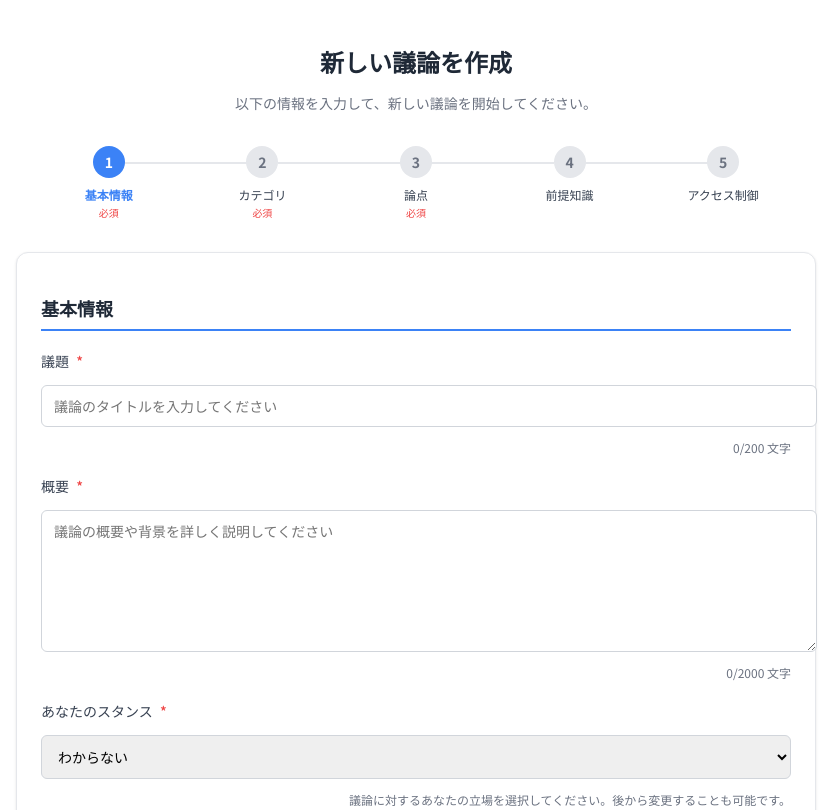
CreateDiscussionForm › moves to next step when basic info is valid
// Fill in basic info
In the field labelled "議題 *": (429, 406) [41, 385, 817, 427], type "Test Discussion"
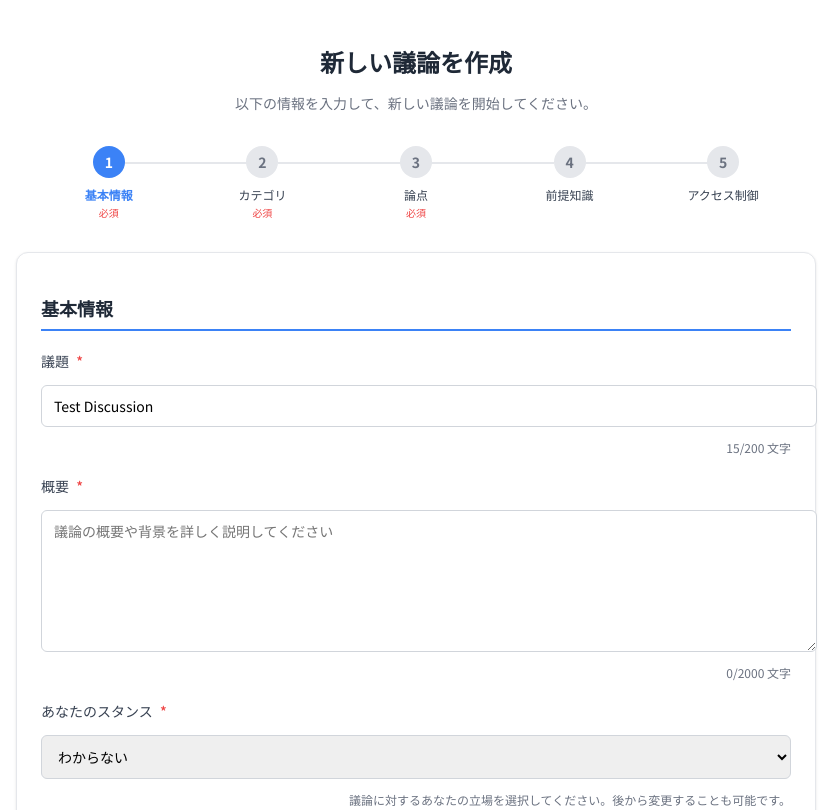
In the text box labelled "概要 *": (429, 581) [41, 510, 817, 652], type "This is a test discussion description"
(page scrolled)
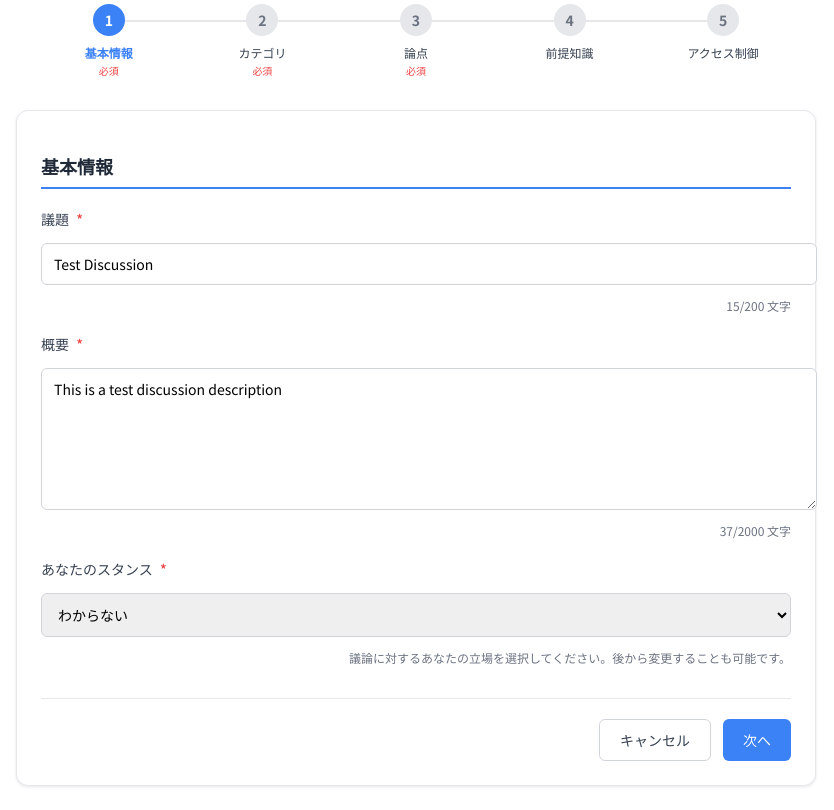
Click the button "次へ": click(757, 740) [723, 719, 791, 761]
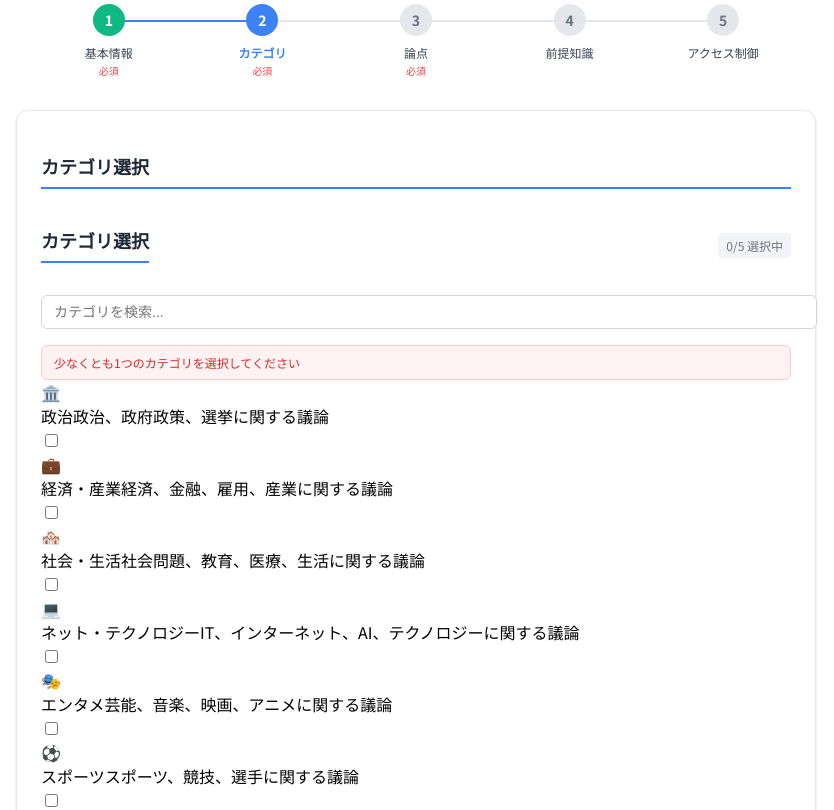
expect the 1st heading "カテゴリ選択" is shown: met, box [41, 153, 791, 189]
